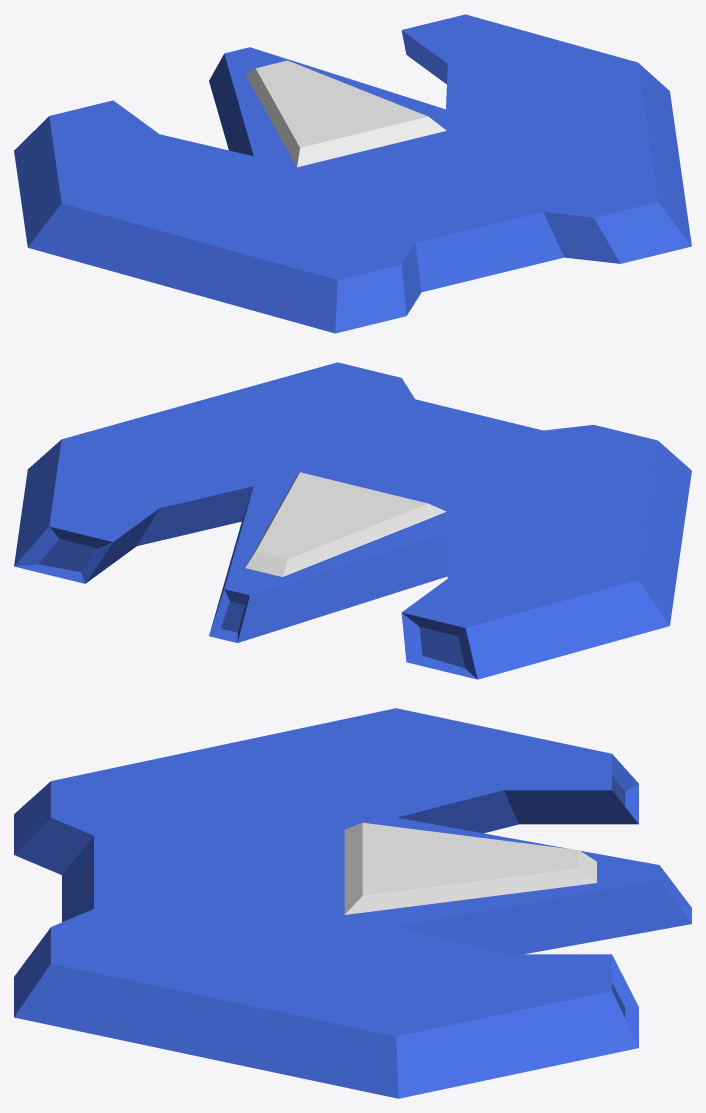
Rendered from player.glb.
3 renders of one model, top to bottom at view 1: azimuth 30°, elevation 25°; view 2: azimuth 150°, elevation 25°; view 3: azimuth 270°, elevation 25°, orthographic. The views are drawn at different scales.
Parts seen in each view (by area): view 1: glass, player; view 2: glass, player; view 3: glass, player.
Part boxes in pixels (x1=…): glass: x1=14, y1=14, x2=691, y2=333; player: x1=245, y1=60, x2=446, y2=167; glass: x1=14, y1=362, x2=691, y2=679; player: x1=245, y1=472, x2=446, y2=576; glass: x1=14, y1=708, x2=691, y2=1098; player: x1=344, y1=822, x2=596, y2=914.
Size of the model in its own units: 1.8 by 0.13 by 1.41.
